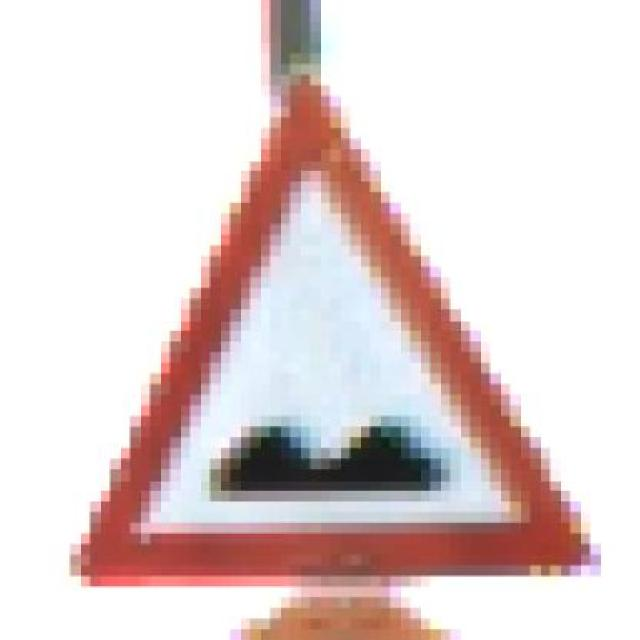Uneven Road: (70, 75, 601, 587)
